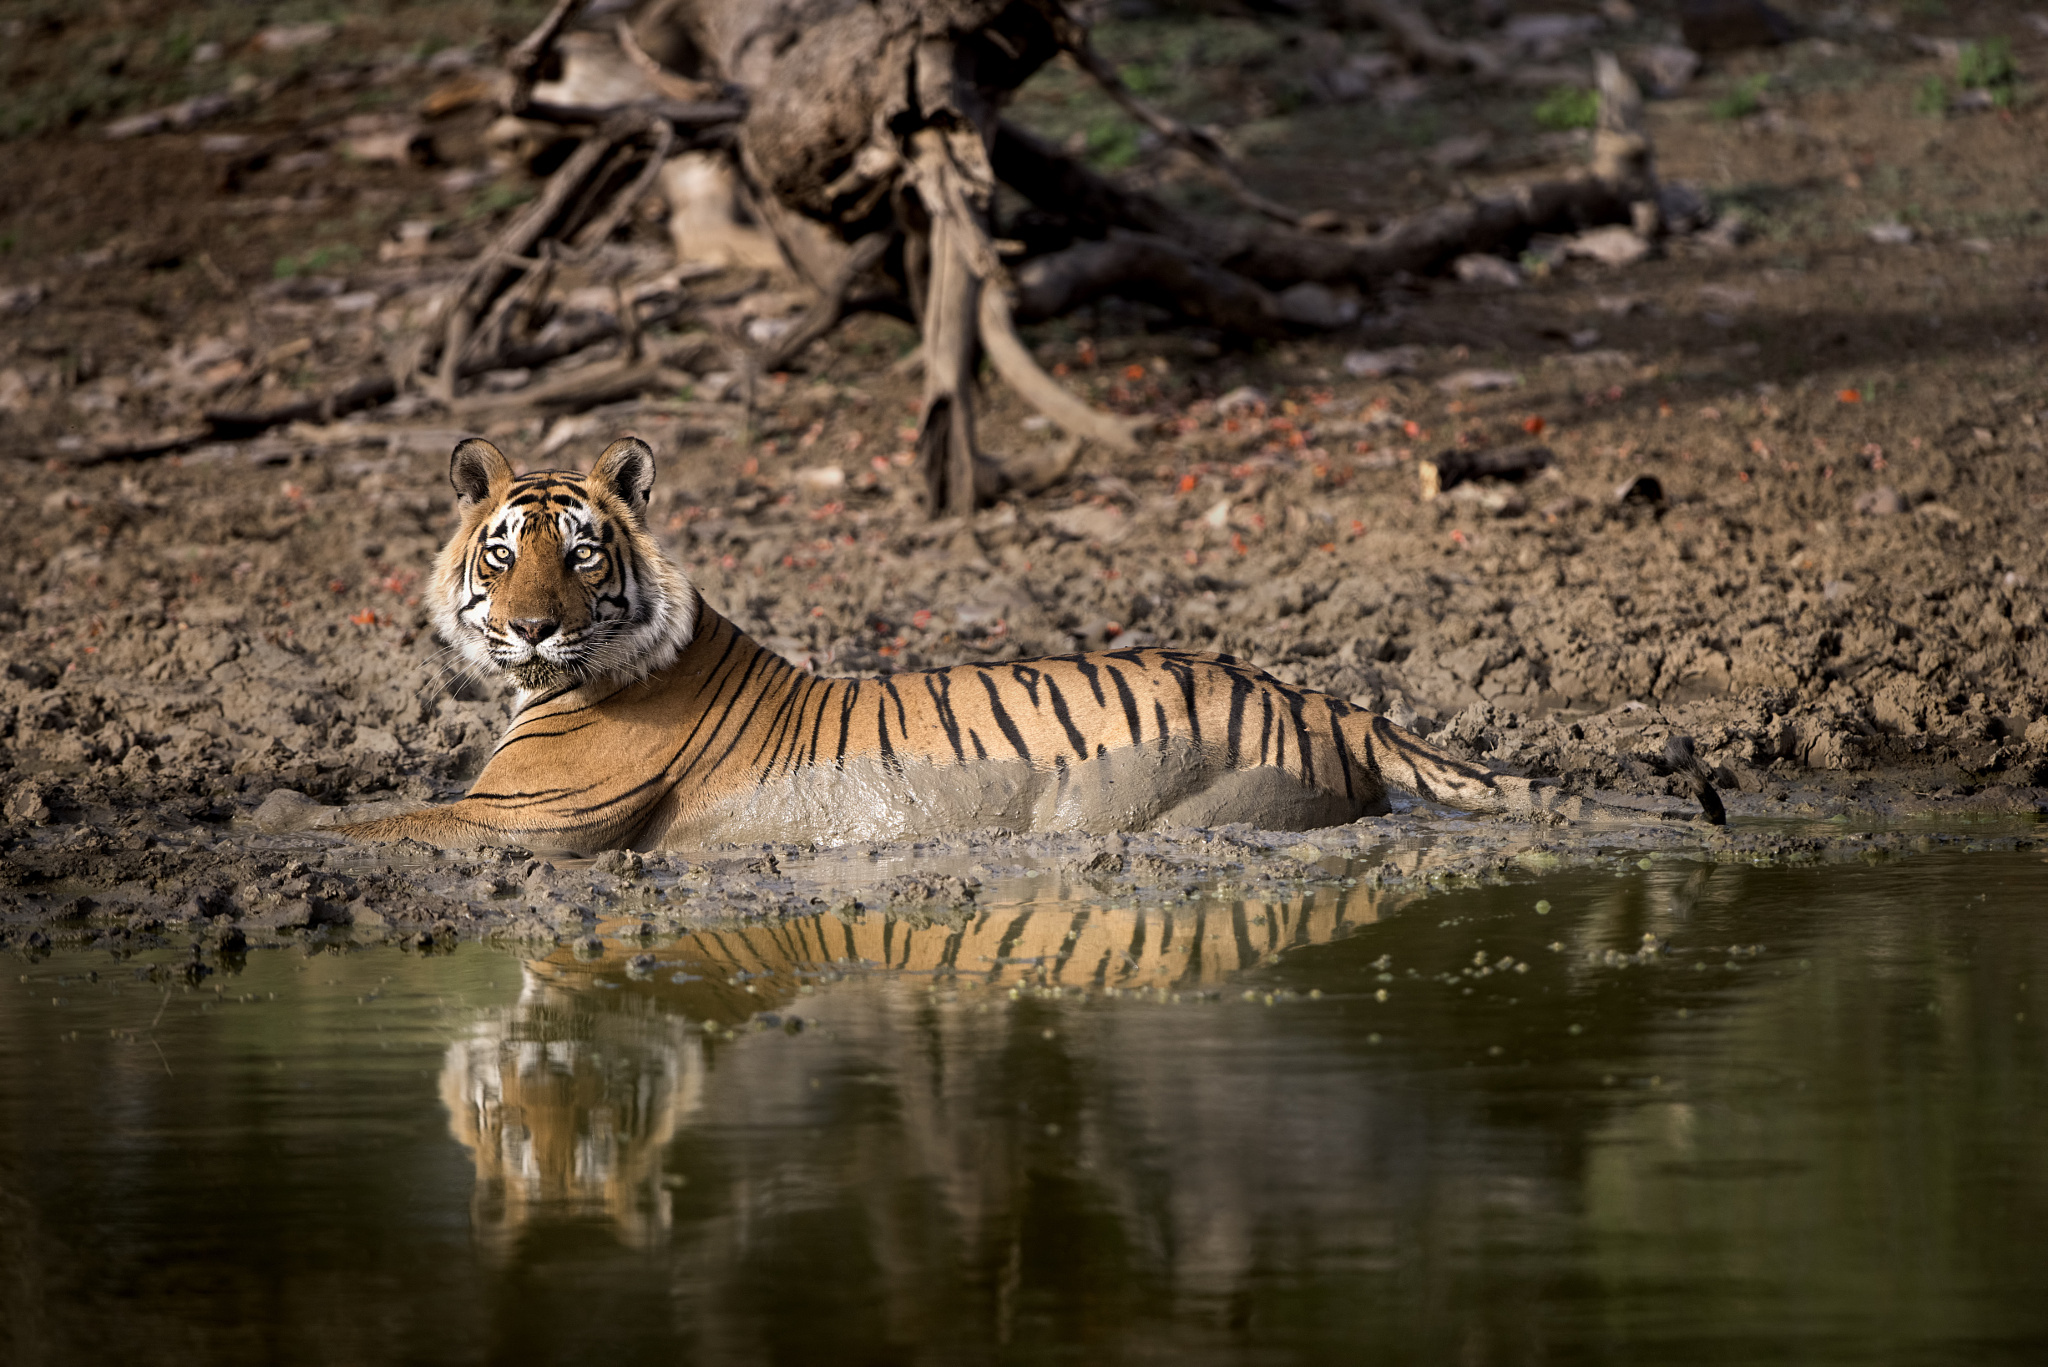tiger: (387, 436, 1555, 874)
